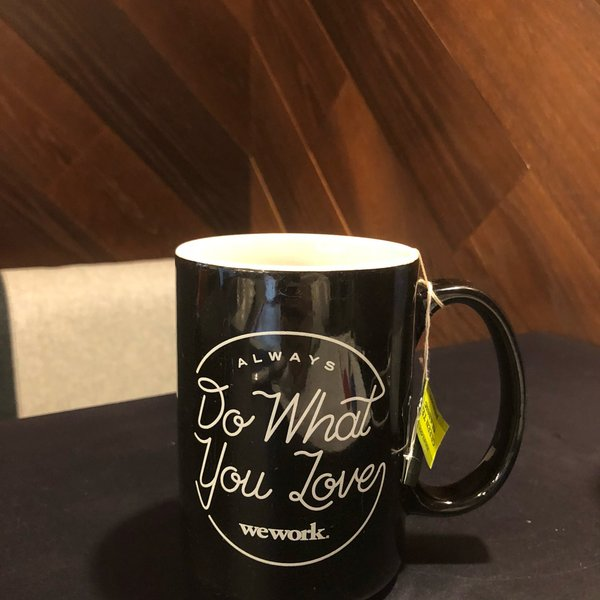wework: (236, 520, 327, 543)
